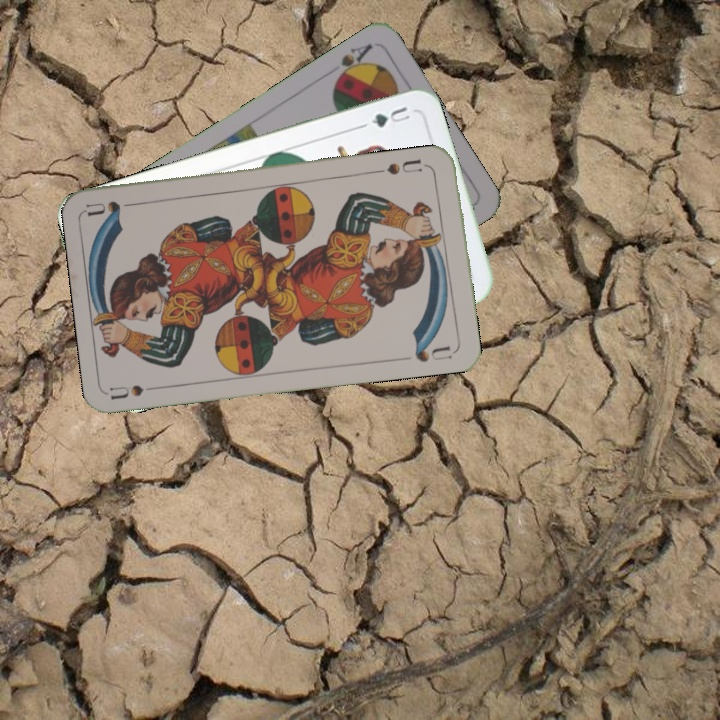GU: (358, 102, 413, 130)
SA: (330, 39, 375, 87)
SU: (107, 380, 167, 402), (374, 155, 424, 177)
